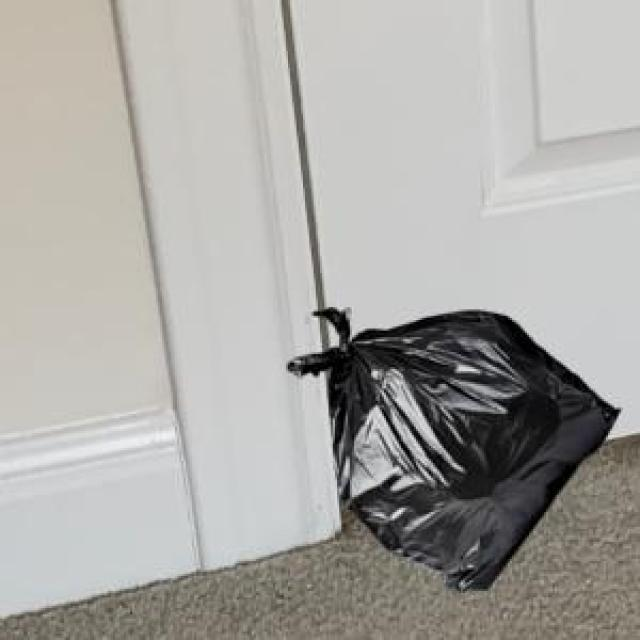Trashbag: (279, 300, 623, 594)
